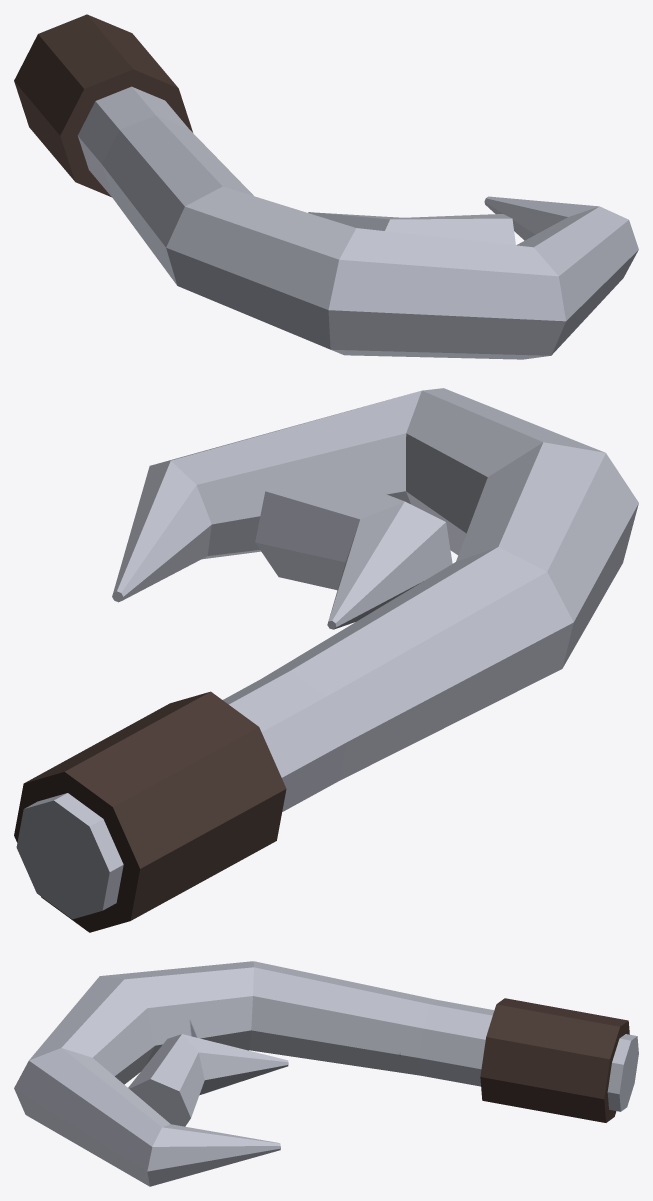
Rendered from piercing_tooth_1.glb.
3 renders of one model, top to bottom at view 1: azimuth 30°, elevation 25°; view 2: azimuth 150°, elevation 25°; view 3: azimuth 270°, elevation 25°, orthographic. The views are drawn at different scales.
Parts seen in each view (by area): view 1: wear_piercing_tooth_1_00_display; view 2: wear_piercing_tooth_1_00_display; view 3: wear_piercing_tooth_1_00_display.
Part boxes in pixels (box(x1,y1,x2,y2)): wear_piercing_tooth_1_00_display: box(14, 14, 638, 359); wear_piercing_tooth_1_00_display: box(14, 388, 638, 932); wear_piercing_tooth_1_00_display: box(14, 961, 638, 1186).
Bounding box in the file's own units: 0.329 × 0.125 × 0.5728.
Materials: 3 (1 with a texture image).
